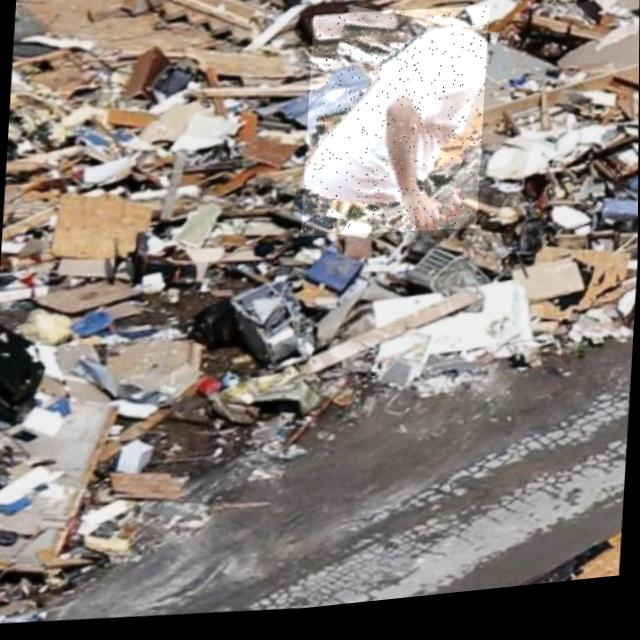Person in Rubble: (301, 8, 490, 253)
